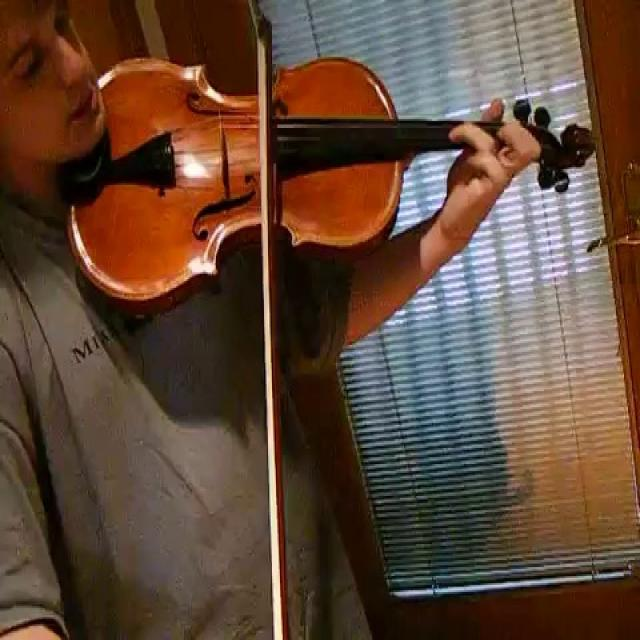Violin: (68, 46, 594, 306)
